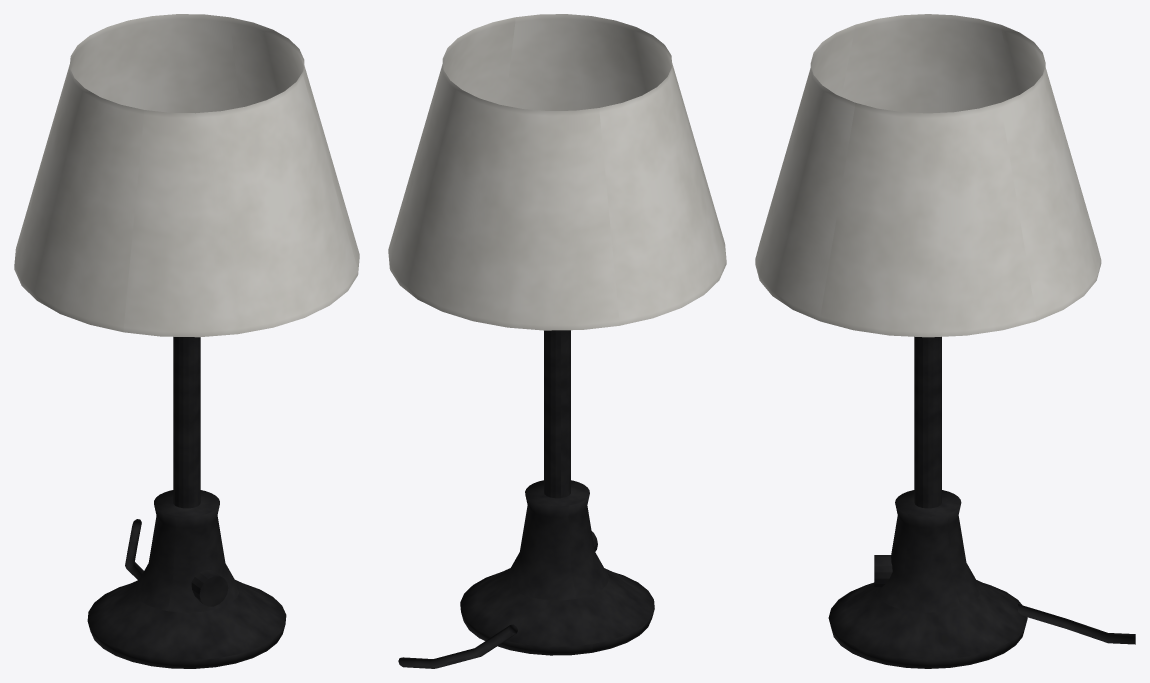
The model's file is PRP_TableLamp_Intact.fbx.
The picture shows the model from 3 angles, left to right: view 1: azimuth 30°, elevation 25°; view 2: azimuth 150°, elevation 25°; view 3: azimuth 270°, elevation 25°; orthographic projection. The views are drawn at different scales.
Parts seen in each view (by area): view 1: Lamp_Shade, Lamp_Base, Lamp_Switch, Lamp_Cord; view 2: Lamp_Shade, Lamp_Base, Lamp_Cord; view 3: Lamp_Shade, Lamp_Base, Lamp_Cord.
Part boxes in pixels (bbox=[...]): Lamp_Shade: bbox=[14, 14, 359, 337]; Lamp_Base: bbox=[87, 337, 286, 668]; Lamp_Switch: bbox=[191, 570, 228, 606]; Lamp_Cord: bbox=[125, 519, 143, 579]; Lamp_Shade: bbox=[388, 14, 726, 330]; Lamp_Base: bbox=[460, 330, 654, 655]; Lamp_Cord: bbox=[398, 624, 517, 668]; Lamp_Shade: bbox=[755, 14, 1101, 337]; Lamp_Base: bbox=[828, 336, 1027, 668]; Lamp_Cord: bbox=[1018, 604, 1135, 644].
Bounding box in the file's own units: 25 × 45 × 27.5.
